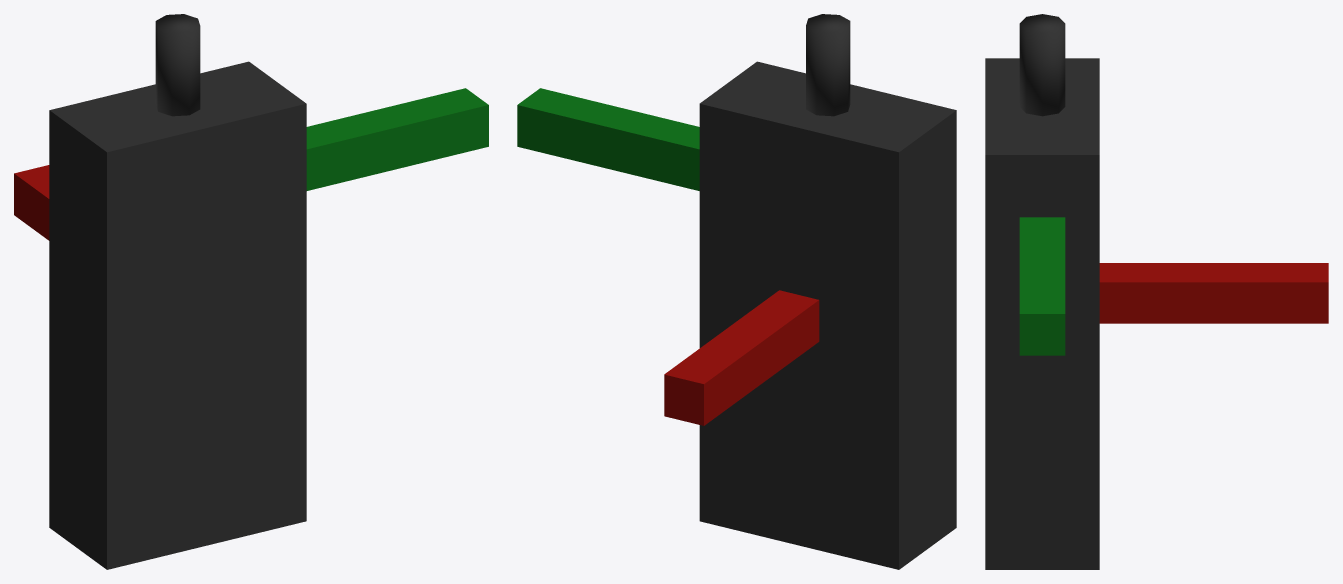
The model's file is B0_Fixture.fbx.
3 views of the same model, side by side, from view 1: azimuth 30°, elevation 25°; view 2: azimuth 150°, elevation 25°; view 3: azimuth 270°, elevation 25° (orthographic).
Visible parts, largest first — view 1: B0_Fixture; view 2: B0_Fixture; view 3: B0_Fixture.
Boxes of the visible parts, x1=… form: B0_Fixture: x1=14, y1=14, x2=488, y2=569; B0_Fixture: x1=517, y1=14, x2=956, y2=569; B0_Fixture: x1=985, y1=14, x2=1328, y2=569.
Size of the model in its own units: 2 by 1.5 by 2.4.
